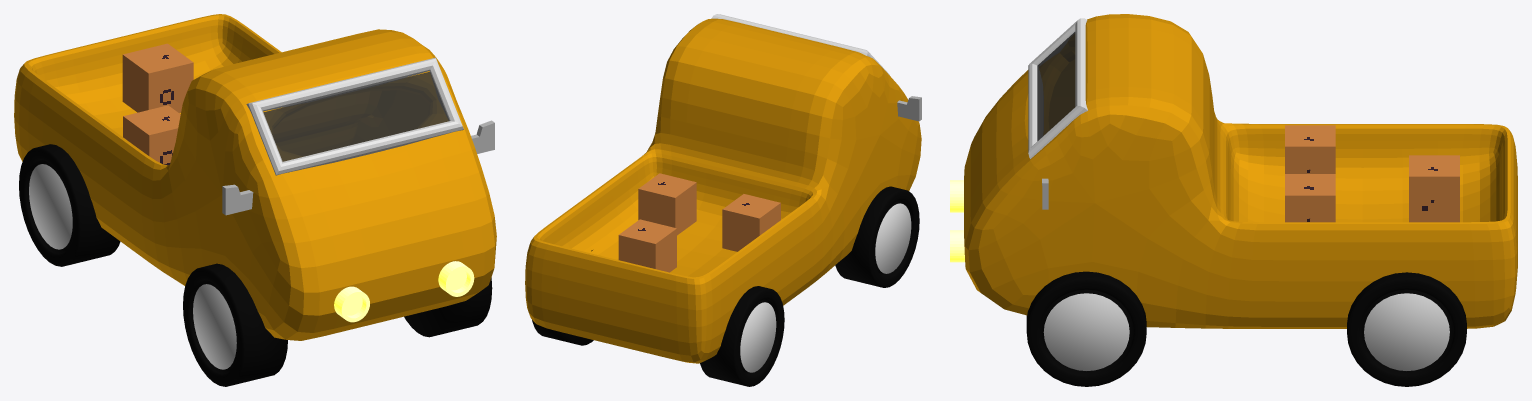
Rendered from car2.glb.
3 renders of one model, left to right at view 1: azimuth 30°, elevation 25°; view 2: azimuth 150°, elevation 25°; view 3: azimuth 270°, elevation 25°, orthographic. The views are drawn at different scales.
Parts seen in each view (by area): view 1: 立方体, 立方体.003, wheel.002, wheel.003, 立方体.004, 立方体.006, 立方体.001, wheel, 立方体.007, 柱体.002, 柱体.003; view 2: 立方体, wheel.002, wheel.003, 立方体.005, 立方体.006, 立方体.001, 立方体.004, wheel.001, 立方体.007; view 3: 立方体, wheel, wheel.001, 立方体.006, 立方体.003, 立方体.004, 立方体.001, 立方体.005, 柱体.003.
Part boxes in pixels (x1,y1,x2,y2): 立方体: (14, 14, 496, 340); 立方体.003: (263, 71, 449, 161); wheel.002: (183, 263, 287, 386); wheel.003: (19, 144, 120, 266); 立方体.004: (246, 57, 463, 175); 立方体.006: (122, 43, 193, 113); 立方体.001: (123, 105, 180, 165); wheel: (404, 277, 492, 337); 立方体.007: (222, 120, 494, 215); 柱体.002: (334, 286, 369, 322); 柱体.003: (438, 261, 474, 296); 立方体: (525, 18, 921, 363); wheel.002: (835, 186, 919, 287); wheel.003: (700, 286, 784, 386); 立方体.005: (638, 173, 696, 235); 立方体.006: (618, 219, 676, 272); 立方体.001: (722, 194, 780, 251); 立方体.004: (711, 14, 889, 75); wheel.001: (532, 250, 593, 345); 立方体.007: (897, 96, 921, 121); 立方体: (964, 14, 1517, 328); wheel: (1026, 271, 1146, 386); wheel.001: (1347, 272, 1466, 386); 立方体.006: (1409, 155, 1459, 222); 立方体.003: (1037, 32, 1075, 140); 立方体.004: (1028, 18, 1087, 158); 立方体.001: (1285, 125, 1335, 173); 立方体.005: (1285, 174, 1335, 222); 柱体.003: (950, 230, 964, 262).
Bounding box in the file's own units: 5.07 × 5 × 9.46.
Materials: 10 (3 with a texture image).
